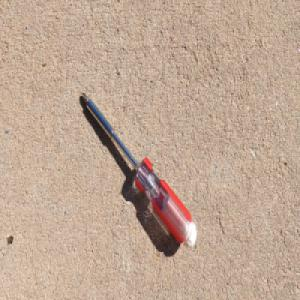Screwdriver: (80, 89, 198, 250)
